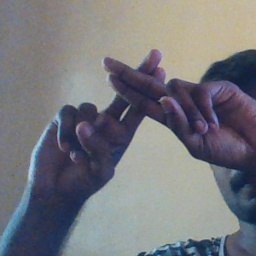F: (74, 47, 200, 157)
